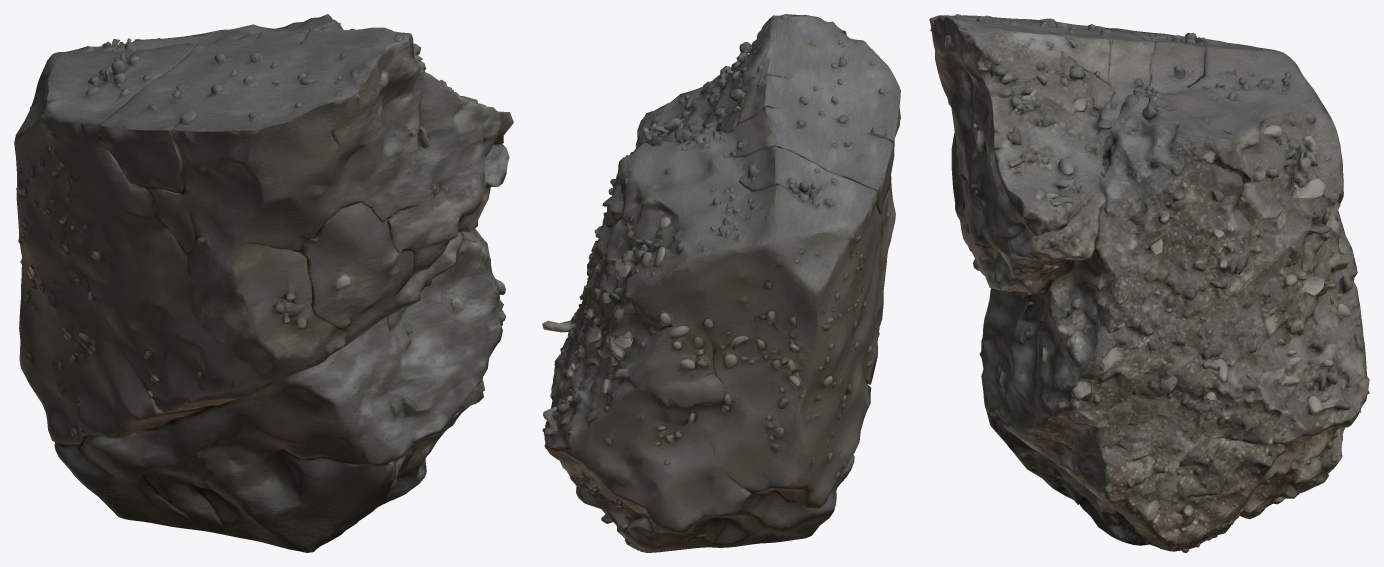
Rendered from rock-tall-outcrop.glb.
The picture shows the model from 3 angles, left to right: view 1: azimuth 30°, elevation 25°; view 2: azimuth 150°, elevation 25°; view 3: azimuth 270°, elevation 25°; orthographic projection. The views are drawn at different scales.
Parts seen in each view (by area): view 1: tripo_node_7c9f6f89-661d-433a-8880-405c74fb6014; view 2: tripo_node_7c9f6f89-661d-433a-8880-405c74fb6014; view 3: tripo_node_7c9f6f89-661d-433a-8880-405c74fb6014.
Part boxes in pixels (left/top/right/bottom): tripo_node_7c9f6f89-661d-433a-8880-405c74fb6014: left=14, top=14, right=513, bottom=552; tripo_node_7c9f6f89-661d-433a-8880-405c74fb6014: left=542, top=14, right=900, bottom=552; tripo_node_7c9f6f89-661d-433a-8880-405c74fb6014: left=929, top=14, right=1369, bottom=552.
Bounding box in the file's own units: 0.7713 × 1 × 0.8567.
1 material, 1 textured.
